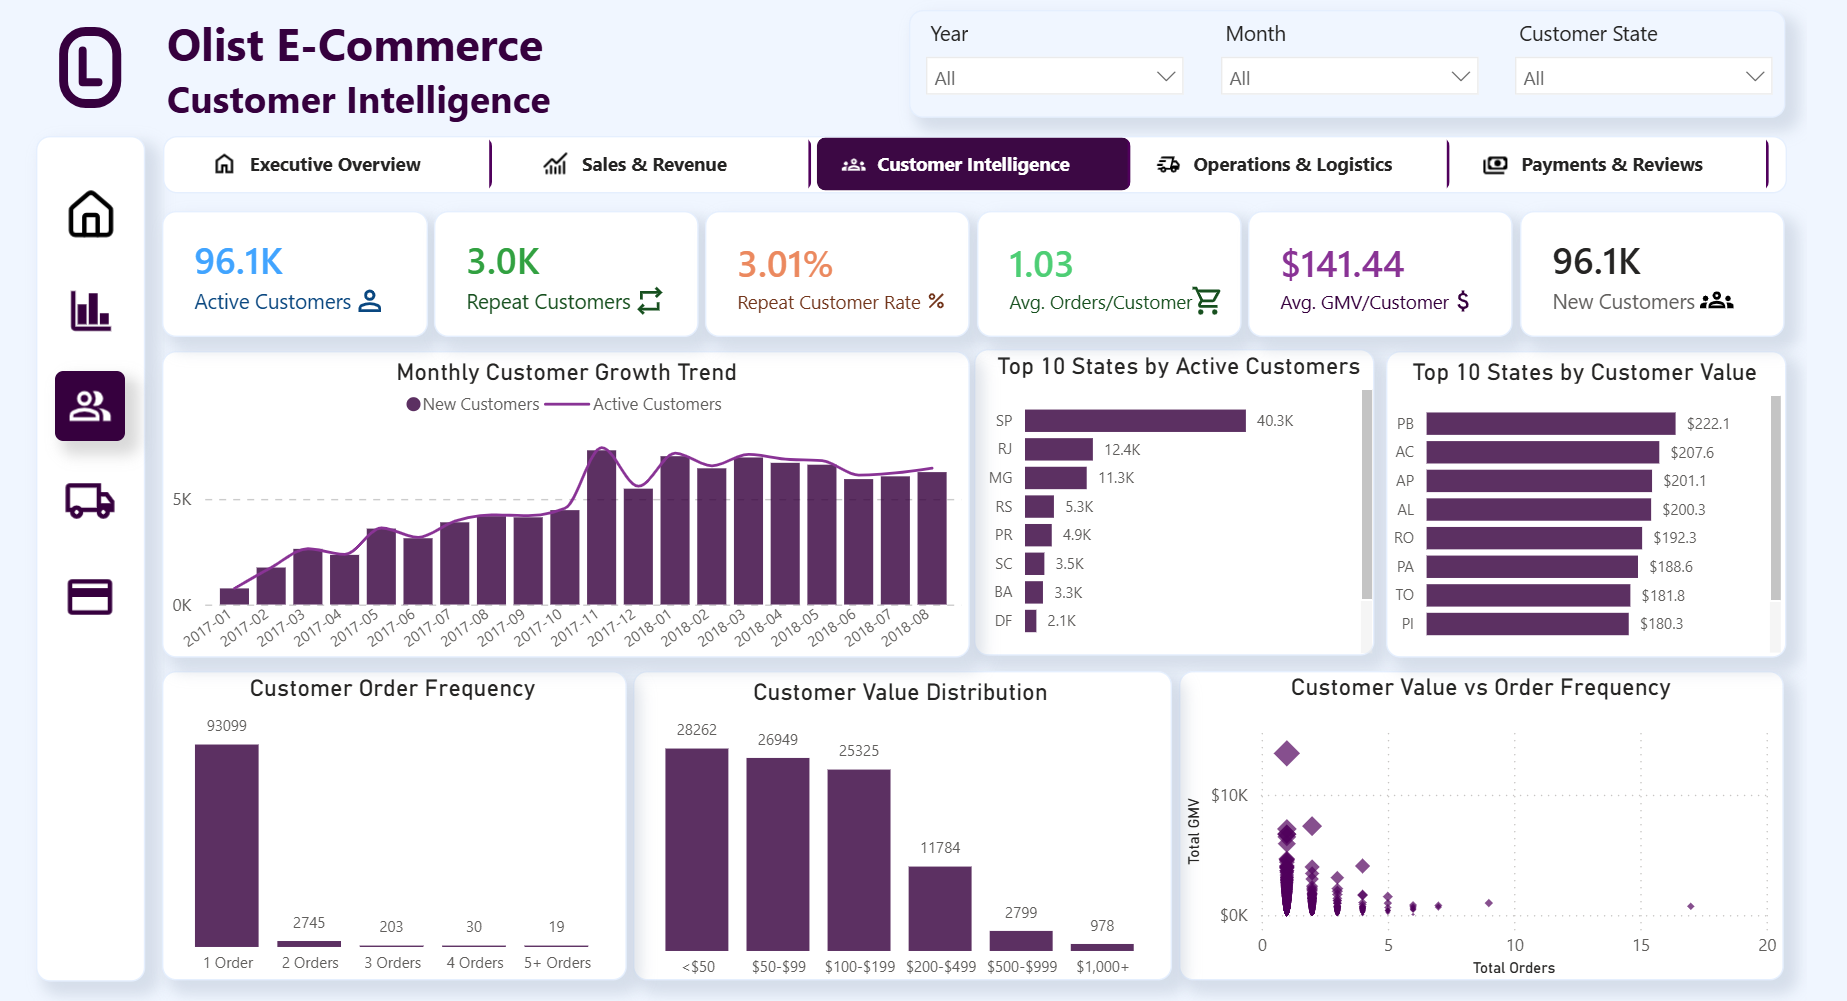

The page's visual inventory and layout, read from the dashboard file:
{"tool":"powerbi","page":{"name":"Customer Intelligence","canvas":[1280,720],"ordinal":2},"visuals":[{"type":"image","box":[15.9,5.9,76.5,85.1],"z":0,"group":"g1"},{"type":"shape","box":[15.3,96.8,77.7,603.7],"z":0},{"type":"image","box":[19.9,11.6,68.4,71.9],"z":1000,"group":"g1"},{"type":"shape","box":[684.8,249.5,286,218.9],"z":1000},{"type":"shape","box":[831.5,479.4,431.7,221.3],"z":2000},{"type":"shape","box":[441.4,479.4,385.2,221.3],"z":3000},{"type":"shape","box":[105.2,479.4,332,221],"z":4000},{"type":"shape","box":[979.6,251,285.7,219.3],"z":5000},{"type":"shape","box":[105.2,250.7,577.2,218.9],"z":6000},{"type":"shape","box":[638.3,7.3,626.1,77],"z":7000},{"type":"textbox","box":[63.6,3.7,368.1,90.5],"z":8000},{"type":"slicer","fields":{"Values":["dim_date.year"]},"box":[640.8,8.6,204.2,77],"z":9000},{"type":"slicer","fields":{"Values":["dim_date.month_name"]},"box":[851.2,8.6,204,77],"z":10000},{"type":"slicer","fields":{"Values":["dim_customer.Customer State"]},"box":[1061.4,8.6,204.2,77],"z":11000},{"type":"clusteredBarChart","title":"Top 10 States by Active Customers","fields":{"Category":["dim_customer.Customer State"],"Y":["_Measures.Active Customers"]},"box":[691.1,248.2,279.9,220.7],"z":12000},{"type":"group","id":"g1","title":"Group 1","box":[15.9,5.9,76.5,85.1],"z":13000},{"type":"group","id":"g2","title":"Group 2","box":[105.2,150.4,1158.7,90.5],"z":14000},{"type":"actionButton","box":[29.3,128.6,50,50],"z":15000},{"type":"actionButton","box":[29.3,196.8,50,50],"z":16000},{"type":"actionButton","box":[317.4,102.3,30.2,30.2],"z":17000},{"type":"cardVisual","fields":{"Data":["_Measures.Active Customers"]},"box":[105.2,150.4,189.5,90.5],"z":17000,"group":"g2"},{"type":"cardVisual","fields":{"Data":["_Measures.Repeat Customers"]},"box":[299.6,150.4,189,90],"z":18000,"group":"g2"},{"type":"actionButton","box":[28.9,265,50,50],"z":18000},{"type":"cardVisual","fields":{"Data":["_Measures.Repeat Customer Rate"]},"box":[493.4,150.4,189,90.5],"z":19000,"group":"g2"},{"type":"actionButton","box":[28.9,333.2,50,50],"z":19000},{"type":"cardVisual","fields":{"Data":["_Measures.Average Orders per Customer"]},"box":[687.2,150.4,189,90],"z":20000,"group":"g2"},{"type":"actionButton","box":[28.9,401.3,50,50],"z":20000},{"type":"cardVisual","fields":{"Data":["_Measures.Average GMV per Customer"]},"box":[881.1,150.4,189,90],"z":21000,"group":"g2"},{"type":"cardVisual","fields":{"Data":["_Measures.New Customers"]},"box":[1074.9,150.4,189,90],"z":22000,"group":"g2"},{"type":"clusteredColumnChart","title":"Customer Order Frequency","fields":{"Category":["Customer Order Frequency.Order Bucket"],"Y":["_Measures.Customers by Order Frequency"]},"box":[105.2,478.1,332.6,222.6],"z":22000},{"type":"clusteredBarChart","title":"Top 10 States by Customer Value","fields":{"Category":["dim_customer.Customer State"],"Y":["_Measures.Average GMV per Customer"]},"box":[979.6,252.5,284.2,216.4],"z":23000},{"type":"image","box":[241.3,203,24.2,24.2],"z":24000},{"type":"image","box":[441.3,203,24.2,24.2],"z":25000},{"type":"image","box":[650.3,203,16.2,23.2],"z":26000},{"type":"image","box":[1203.7,202,24.2,24.2],"z":27000},{"type":"image","box":[840.2,203,24.2,24.2],"z":28000},{"type":"image","box":[1024,205,20.2,20.2],"z":29000},{"type":"pageNavigator","box":[105.7,96.8,1160.3,40.8],"z":30000},{"type":"lineClusteredColumnComboChart","title":"Monthly Customer Growth Trend","fields":{"Category":["dim_date.year_month"],"Y":["_Measures.New Customers"],"Y2":["_Measures.Active Customers"]},"box":[107.6,251.9,572.3,217.7],"z":37000},{"type":"clusteredColumnChart","title":"Customer Value Distribution","fields":{"Category":["Customer Value Band.Value Band"],"Y":["_Measures.Customers by Value Band"]},"box":[441.4,480.6,385.2,222.6],"z":38000},{"type":"scatterChart","title":"Customer Value vs Order Frequency","fields":{"Category":["dim_customer.customer_unique_id"],"Size":["_Measures.Total GMV"],"X":["_Measures.Total Orders"],"Y":["_Measures.Total GMV"]},"box":[831.5,480.6,431.7,221.3],"z":39000},{"type":"actionButton","box":[370.5,101.5,30.6,30.6],"z":39001},{"type":"actionButton","box":[134.5,101.5,30.6,30.6],"z":39002},{"type":"actionButton","box":[583.3,102.7,30.6,29.3],"z":39003},{"type":"actionButton","box":[809.5,102.7,29.3,29.3],"z":39004},{"type":"actionButton","box":[1041.9,102.7,30.6,30.6],"z":39005}]}

Visuals, with their boxes on the page's 1280x720 design canvas (x1, y1, x2, y2). These are canvas units, not pixel positions in the 1847x1001 screenshot, which may show the page scaled, cropped or inside an application window:
image: select_region(16, 6, 92, 91)
shape: select_region(15, 97, 93, 700)
image: select_region(20, 12, 88, 84)
shape: select_region(685, 250, 971, 468)
shape: select_region(832, 479, 1263, 701)
shape: select_region(441, 479, 827, 701)
shape: select_region(105, 479, 437, 700)
shape: select_region(980, 251, 1265, 470)
shape: select_region(105, 251, 682, 470)
shape: select_region(638, 7, 1264, 84)
textbox: select_region(64, 4, 432, 94)
slicer - dim_date.year: select_region(641, 9, 845, 86)
slicer - dim_date.month_name: select_region(851, 9, 1055, 86)
slicer - dim_customer.Customer State: select_region(1061, 9, 1266, 86)
"Top 10 States by Active Customers" clusteredBarChart: select_region(691, 248, 971, 469)
"Group 1" group: select_region(16, 6, 92, 91)
"Group 2" group: select_region(105, 150, 1264, 241)
actionButton: select_region(29, 129, 79, 179)
actionButton: select_region(29, 197, 79, 247)
actionButton: select_region(317, 102, 348, 132)
cardVisual - _Measures.Active Customers: select_region(105, 150, 295, 241)
cardVisual - _Measures.Repeat Customers: select_region(300, 150, 489, 240)
actionButton: select_region(29, 265, 79, 315)
cardVisual - _Measures.Repeat Customer Rate: select_region(493, 150, 682, 241)
actionButton: select_region(29, 333, 79, 383)
cardVisual - _Measures.Average Orders per Customer: select_region(687, 150, 876, 240)
actionButton: select_region(29, 401, 79, 451)
cardVisual - _Measures.Average GMV per Customer: select_region(881, 150, 1070, 240)
cardVisual - _Measures.New Customers: select_region(1075, 150, 1264, 240)
"Customer Order Frequency" clusteredColumnChart: select_region(105, 478, 438, 701)
"Top 10 States by Customer Value" clusteredBarChart: select_region(980, 252, 1264, 469)
image: select_region(241, 203, 266, 227)
image: select_region(441, 203, 466, 227)
image: select_region(650, 203, 666, 226)
image: select_region(1204, 202, 1228, 226)
image: select_region(840, 203, 864, 227)
image: select_region(1024, 205, 1044, 225)
pageNavigator: select_region(106, 97, 1266, 138)
"Monthly Customer Growth Trend" lineClusteredColumnComboChart: select_region(108, 252, 680, 470)
"Customer Value Distribution" clusteredColumnChart: select_region(441, 481, 827, 703)
"Customer Value vs Order Frequency" scatterChart: select_region(832, 481, 1263, 702)
actionButton: select_region(370, 102, 401, 132)
actionButton: select_region(134, 102, 165, 132)
actionButton: select_region(583, 103, 614, 132)
actionButton: select_region(810, 103, 839, 132)
actionButton: select_region(1042, 103, 1072, 133)
